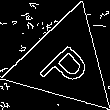P_NE: (33, 32, 96, 94)
